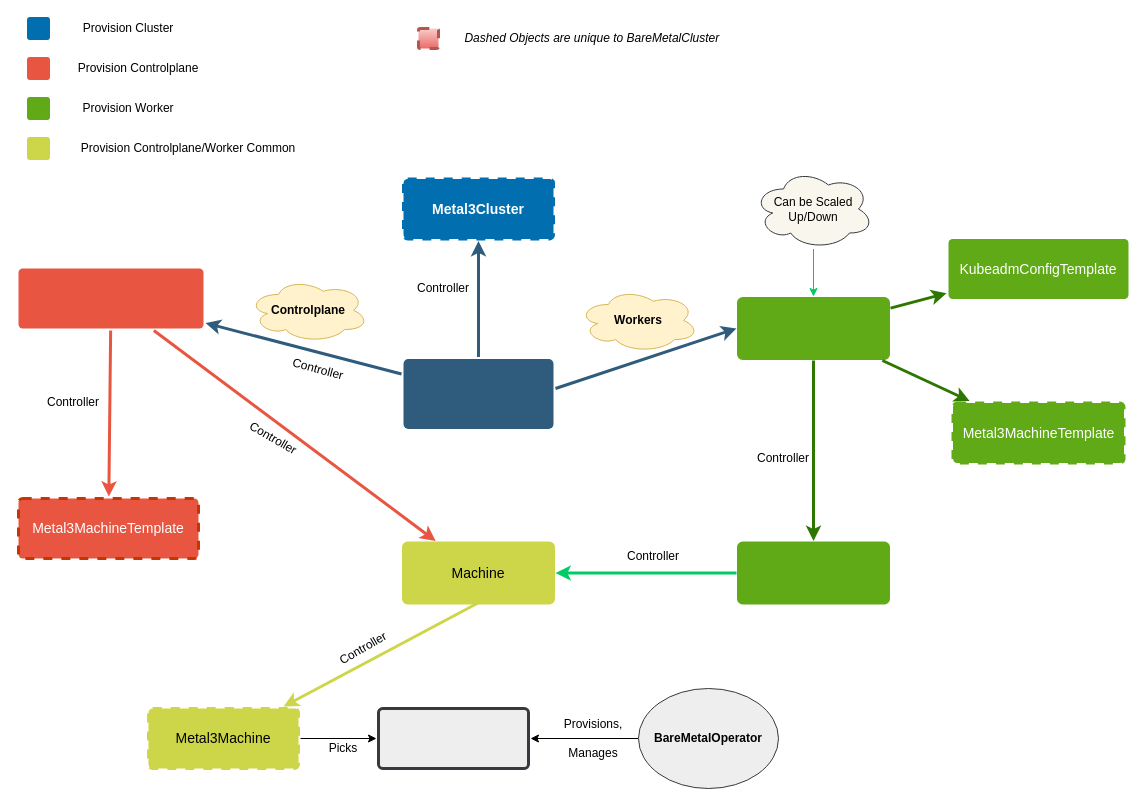
The diagram is 1146 pixels wide and 806 high, and some of its shapes have lost their labels. The centre of each missing label's shape, as x and y in pixels:
"BareMetalHost" goes at point (453, 738).
"Cluster" goes at point (478, 393).
"KubeadmControlPlane" goes at point (110, 298).
"MachineDeployment" goes at point (813, 328).
"MachineSet" goes at point (813, 572).
